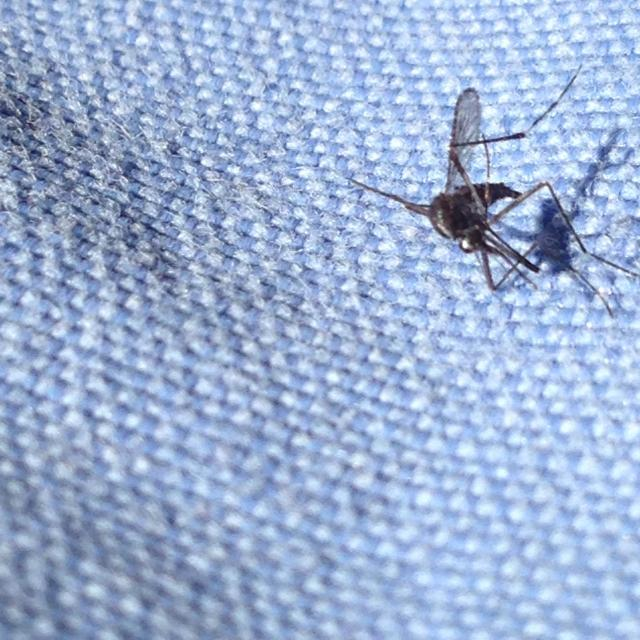albopictus: (334, 57, 640, 316)
